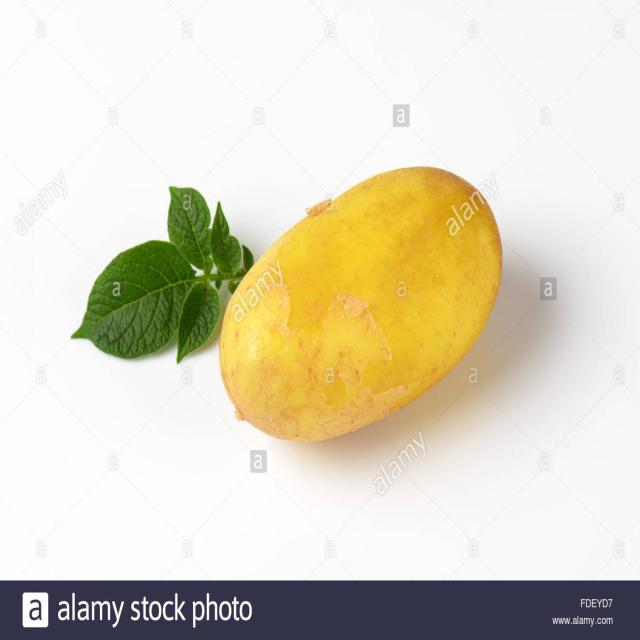potato: (220, 166, 504, 442)
